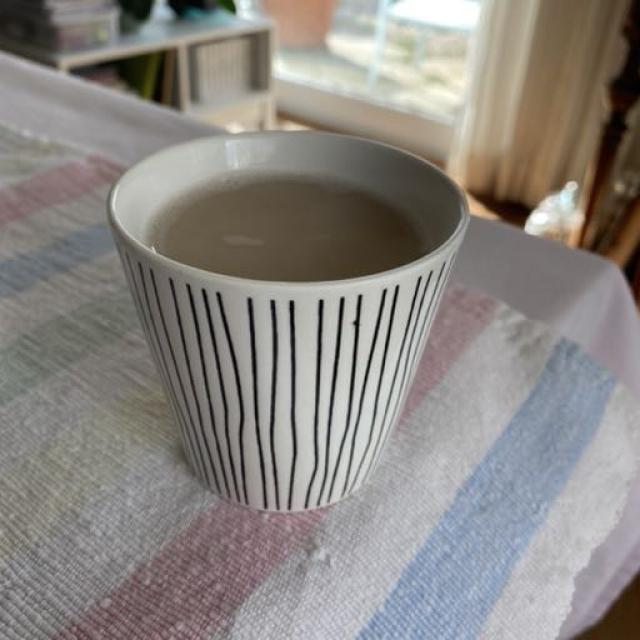tea: (163, 176, 428, 278)
